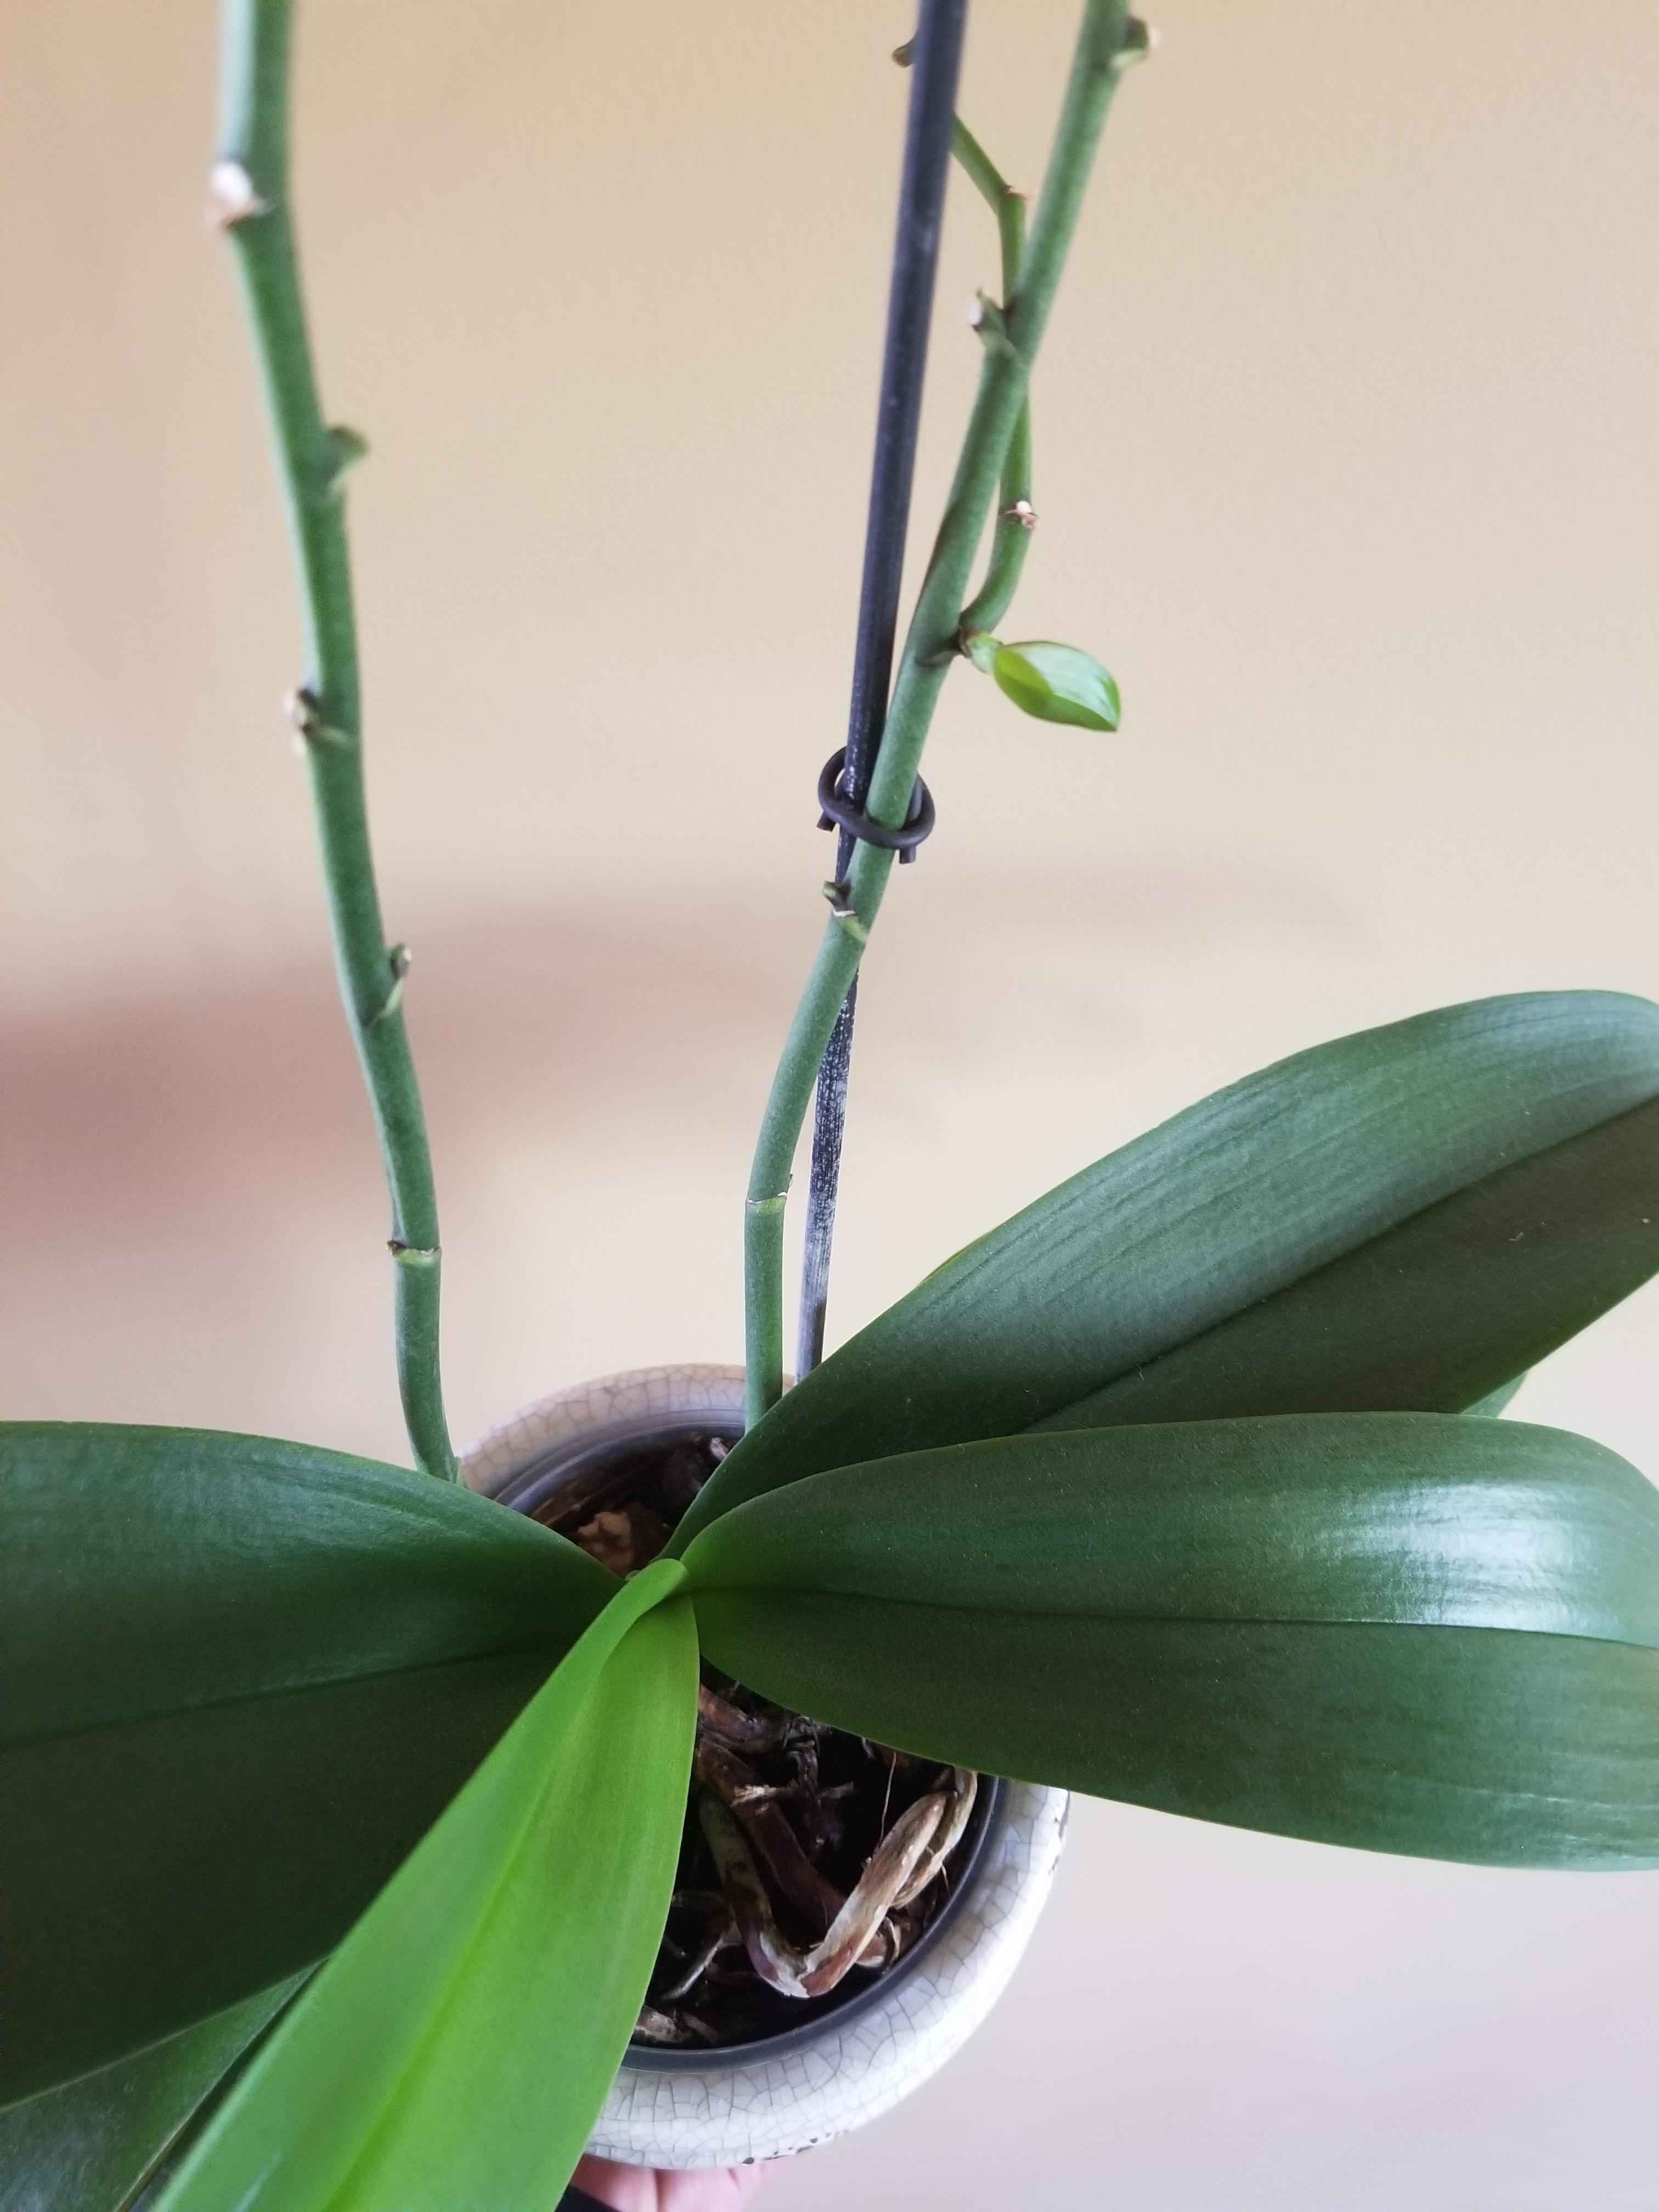orchid branch: (84, 3, 570, 1432), (634, 0, 1143, 1320)
